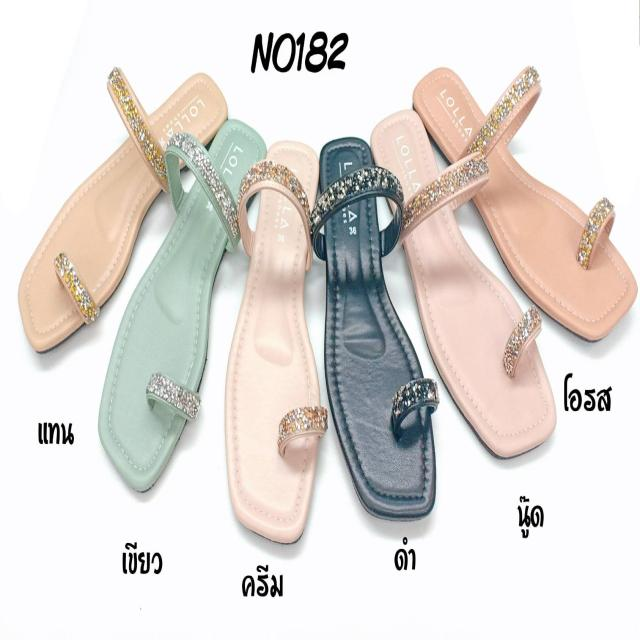black: (308, 122, 438, 539)
cream: (227, 110, 321, 572)
green: (95, 96, 268, 490)
nood: (372, 102, 556, 476)
orot: (409, 49, 640, 343)
tan: (9, 43, 227, 349)
